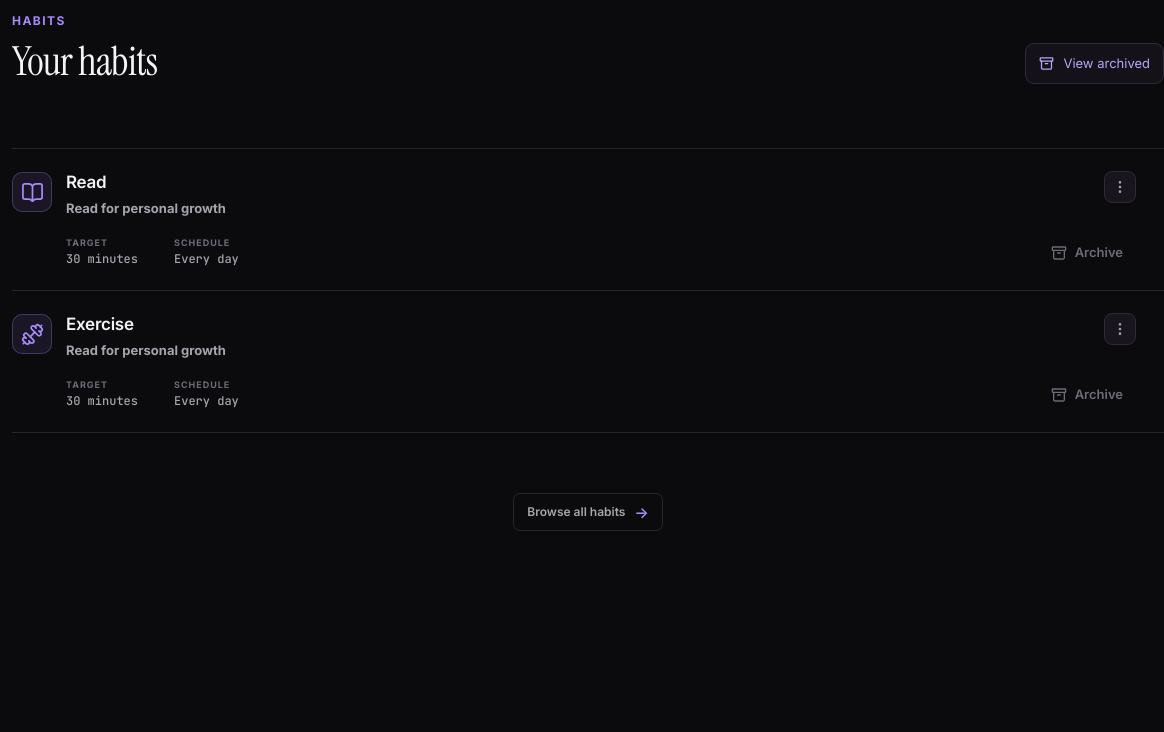
Test: HabitList › renders reorder controls
What coordinates should you click on to do the following:
click the button named "Options for"
I would click on:
 (1120, 187)
Its box is [1104,171,1136,203].
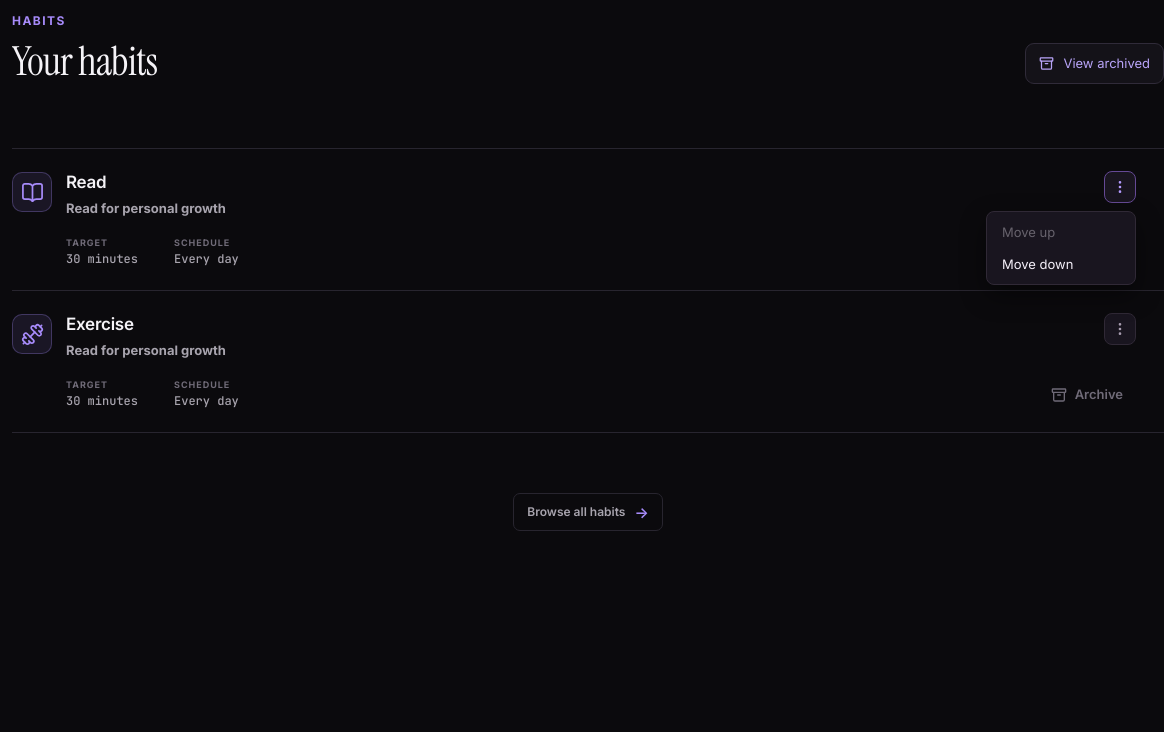
Expected: the button "Move up" is disabled, [991,216,1131,248]
Expected: the button "Move down" is enabled, [991,248,1131,280]
